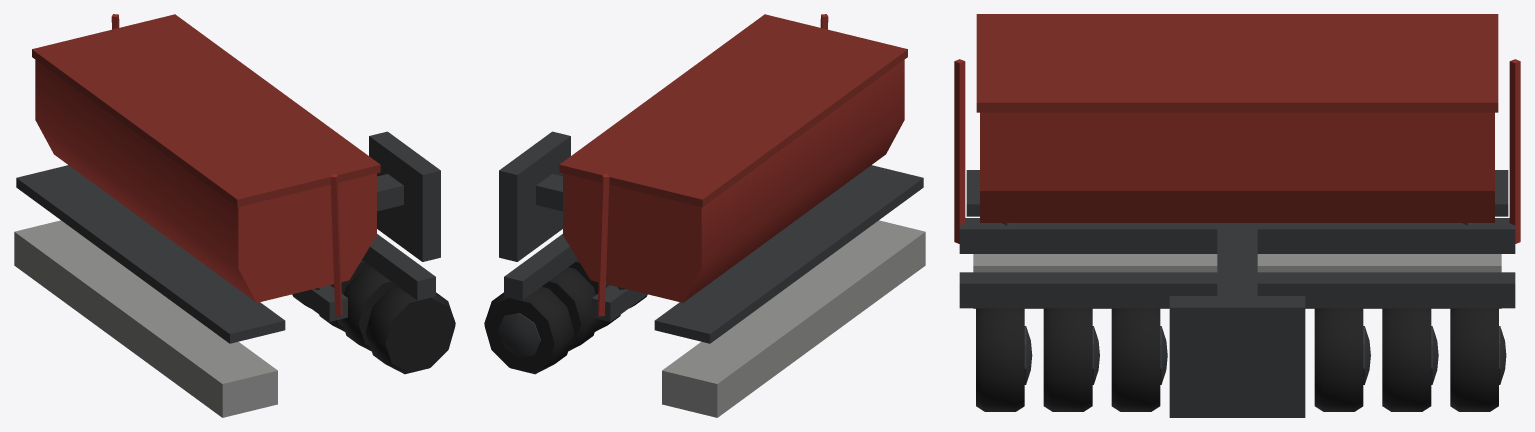
The model's file is SM_Prop_farm_drill_0_LOD1.glb.
The picture shows the model from 3 angles, left to right: view 1: azimuth 30°, elevation 25°; view 2: azimuth 150°, elevation 25°; view 3: azimuth 270°, elevation 25°; orthographic projection. The views are drawn at different scales.
Parts seen in each view (by area): view 1: SM_Prop_farm_drill_0_LOD1; view 2: SM_Prop_farm_drill_0_LOD1; view 3: SM_Prop_farm_drill_0_LOD1.
Part boxes in pixels (x1=…): SM_Prop_farm_drill_0_LOD1: x1=14, y1=14, x2=455, y2=417; SM_Prop_farm_drill_0_LOD1: x1=484, y1=14, x2=925, y2=417; SM_Prop_farm_drill_0_LOD1: x1=954, y1=14, x2=1520, y2=417.
Bounding box in the file's own units: 3.2 × 2.33 × 4.18.
